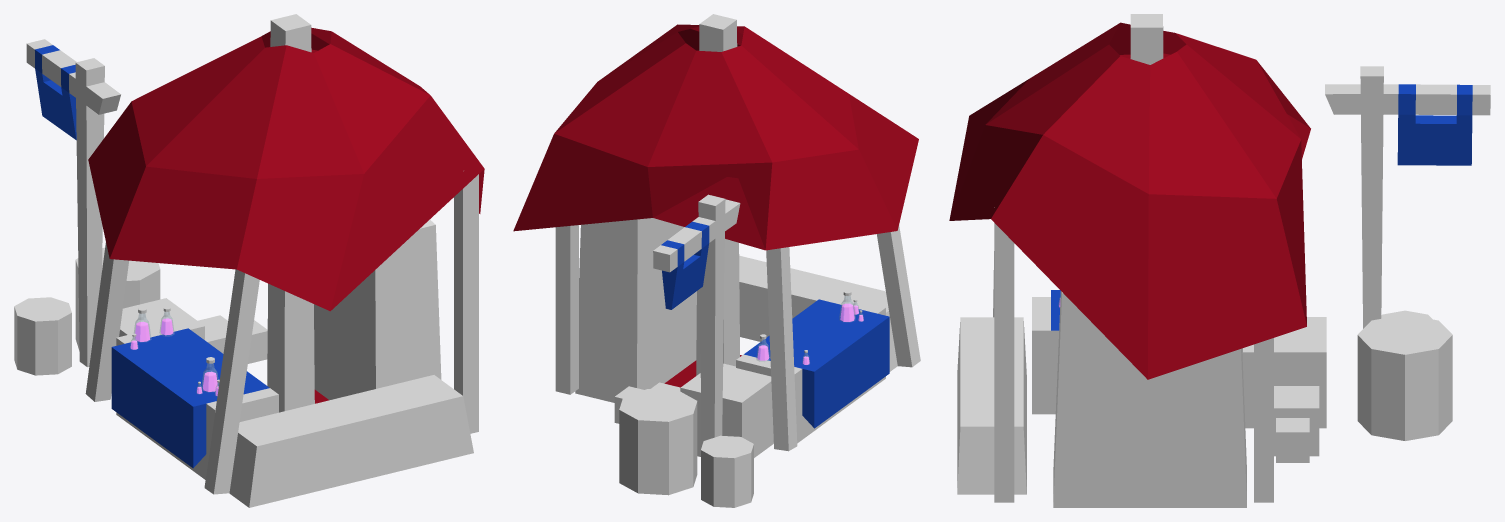
The model's file is Shop.fbx.
3 views of the same model, side by side, from view 1: azimuth 30°, elevation 25°; view 2: azimuth 150°, elevation 25°; view 3: azimuth 270°, elevation 25° (orthographic). The views are drawn at different scales.
Parts seen in each view (by area): view 1: Botella_vidrio.002; view 2: Botella_vidrio.002; view 3: Botella_vidrio.002.
Part boxes in pixels (<box>): Botella_vidrio.002: <box>14,14,484,507</box>; Botella_vidrio.002: <box>513,14,920,507</box>; Botella_vidrio.002: <box>949,14,1490,507</box>.
Size of the model in its own units: 1184 by 1191 by 1354.
